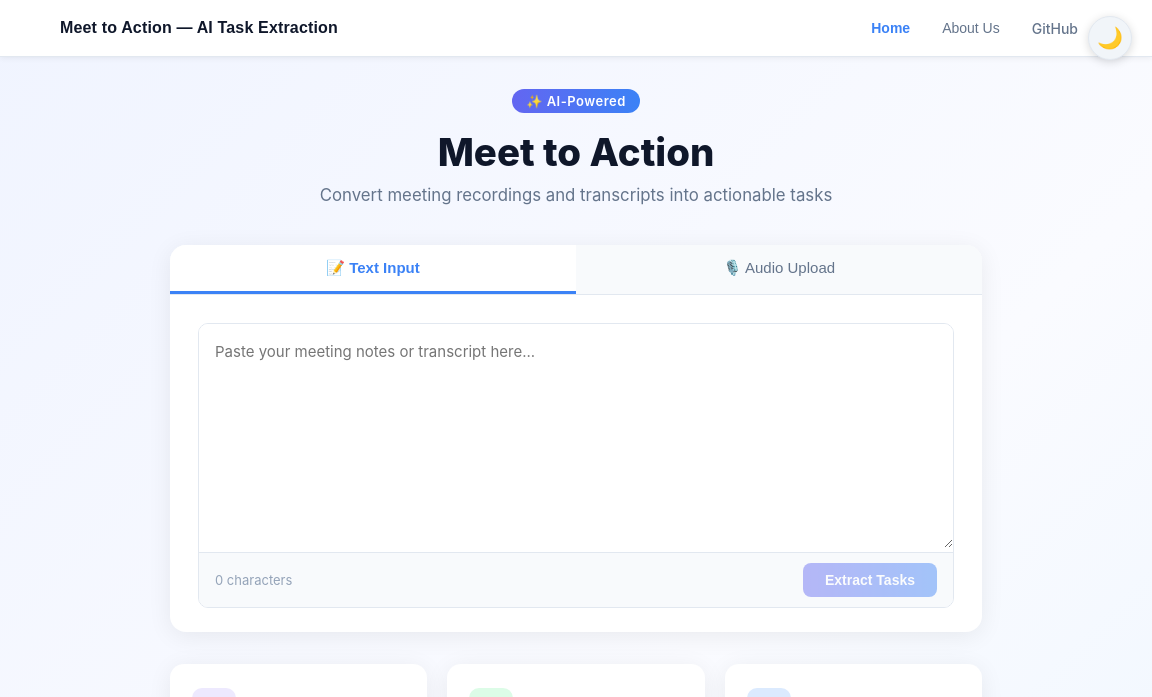
Test: theme toggle button switches icon when clicked
What coordinates should you click on to do the following:
click the button named "Switch to dark mode"
I would click on:
 (1110, 38)
Its box is left=1088, top=16, right=1132, bottom=60.
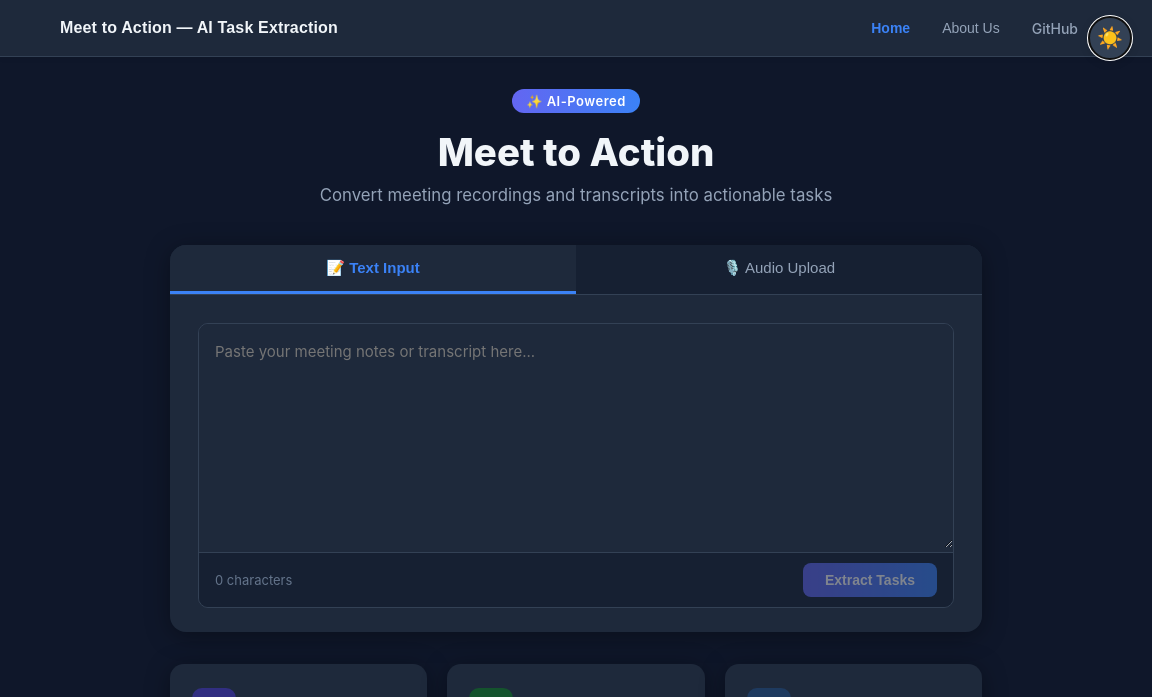
Expected: the button named "Switch to light mode" reads "☀️", left=1088, top=16, right=1132, bottom=60
